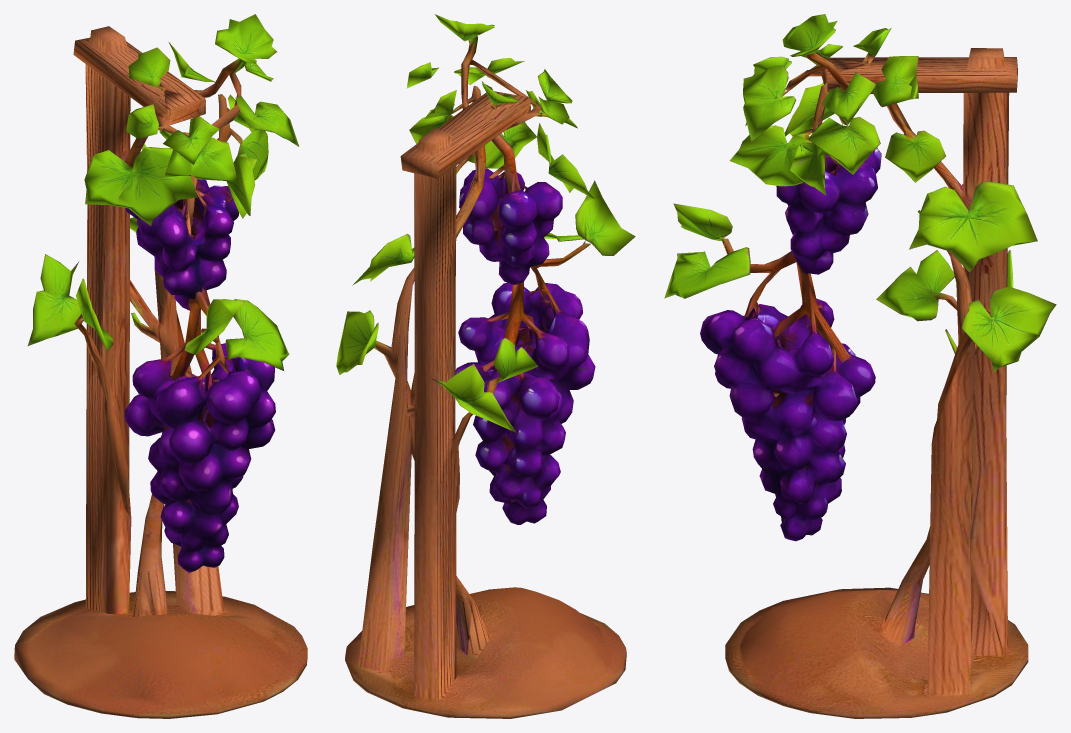
The model's file is vine.glb.
The picture shows the model from 3 angles, left to right: view 1: azimuth 30°, elevation 25°; view 2: azimuth 150°, elevation 25°; view 3: azimuth 270°, elevation 25°; orthographic projection. The views are drawn at different scales.
Size of the model in its own units: 0.792 by 1.91 by 1.03.
Materials: 1 (1 with a texture image).
